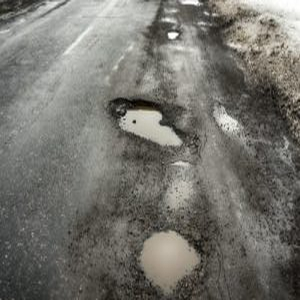pothole: (136, 227, 204, 300), (110, 93, 187, 150), (165, 27, 183, 44)
